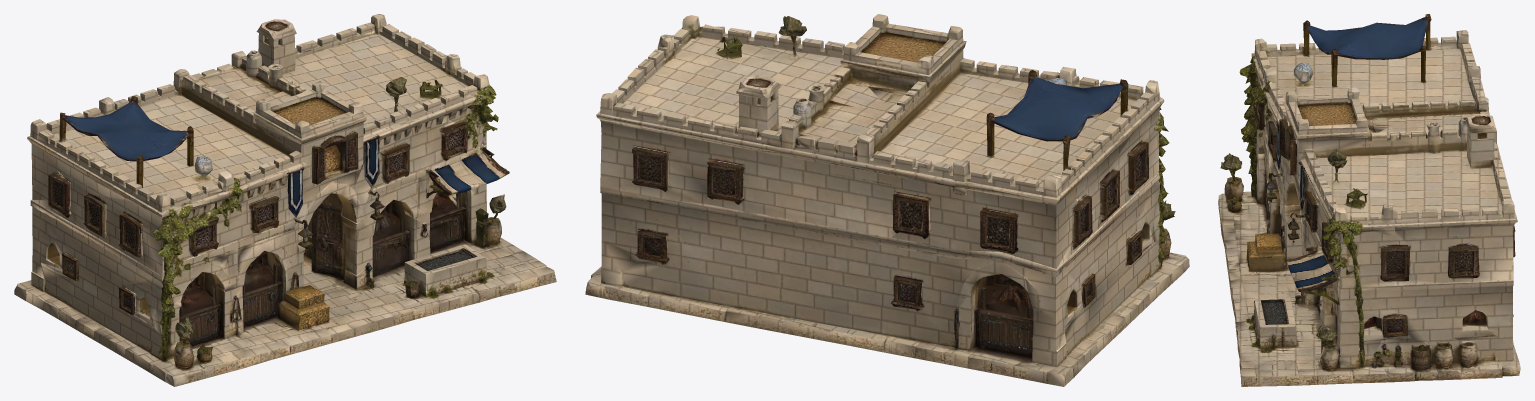
Rendered from stable-lod.glb.
The picture shows the model from 3 angles, left to right: view 1: azimuth 30°, elevation 25°; view 2: azimuth 150°, elevation 25°; view 3: azimuth 270°, elevation 25°; orthographic projection. The views are drawn at different scales.
Bounding box in the file's own units: 15.65 × 7.25 × 10.19.
Materials: 1 (1 with a texture image).
